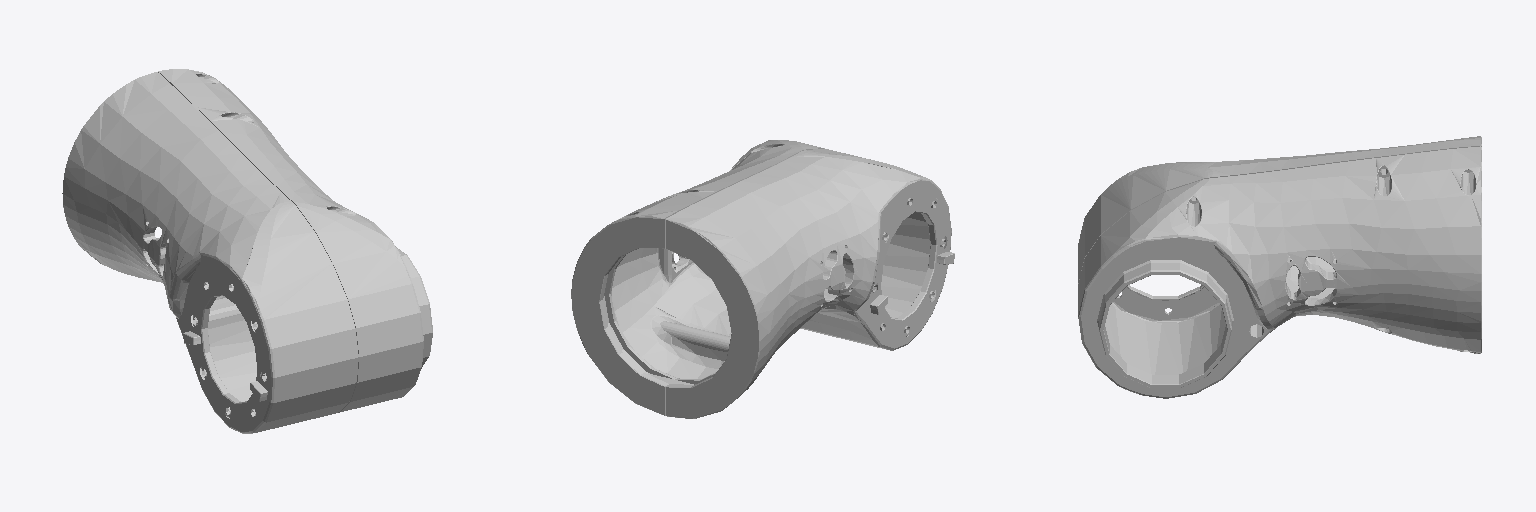
File: left_arm_sho3_2.obj
3 renders of one model, left to right at view 1: azimuth 30°, elevation 25°; view 2: azimuth 150°, elevation 25°; view 3: azimuth 270°, elevation 25°, orthographic.
Bounding box in the file's own units: 0.1169 × 0.1285 × 0.2123.